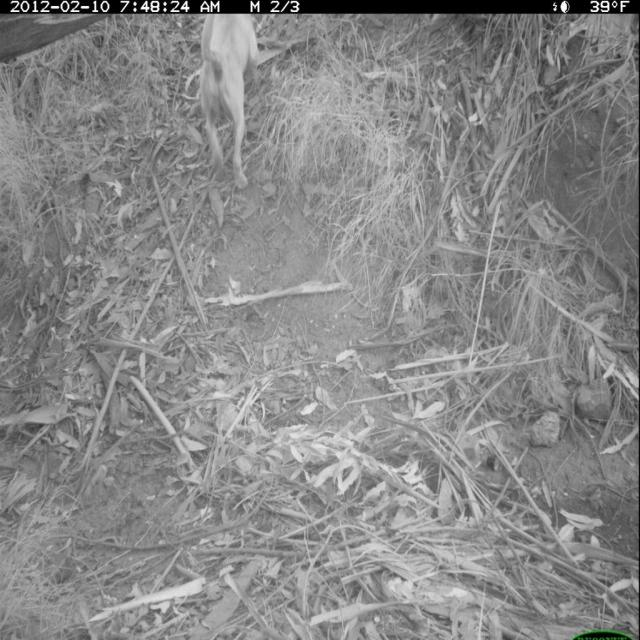dog: (187, 16, 271, 208)
